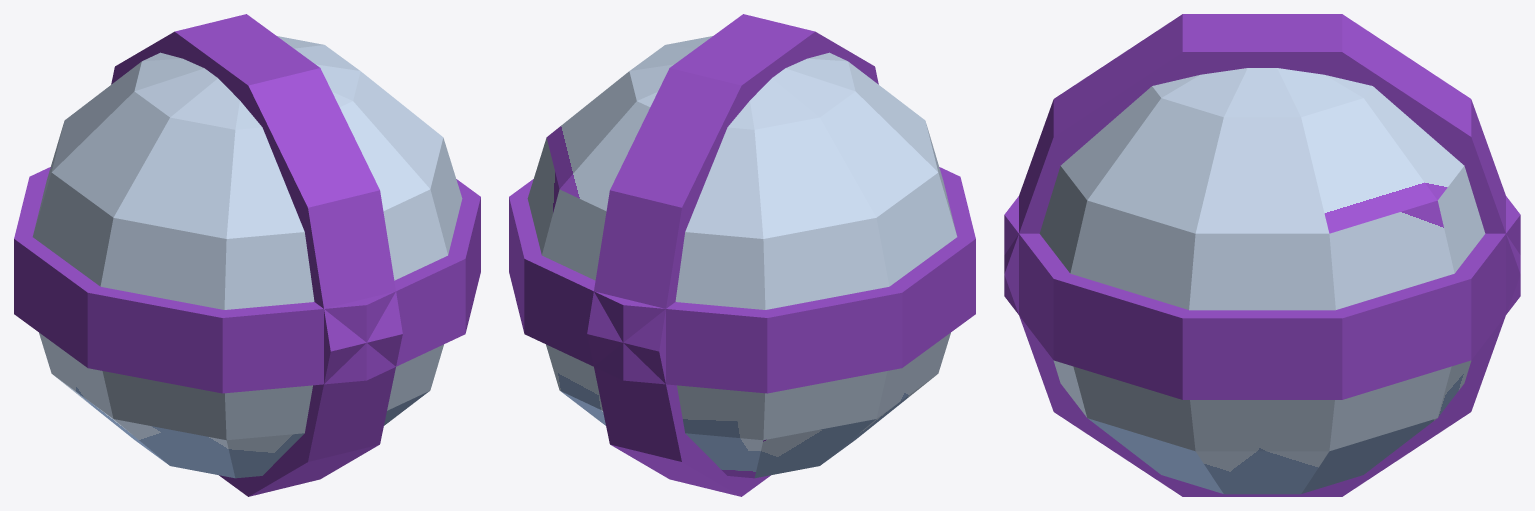
File: enemy_snowball.glb
3 views of the same model, side by side, from view 1: azimuth 30°, elevation 25°; view 2: azimuth 150°, elevation 25°; view 3: azimuth 270°, elevation 25° (orthographic). The views are drawn at different scales.
Visible parts, largest first — view 1: enemy_snowball; view 2: enemy_snowball; view 3: enemy_snowball.
Boxes of the visible parts, x1,y1,x2,y2 form: enemy_snowball: [14, 14, 480, 496]; enemy_snowball: [509, 14, 975, 496]; enemy_snowball: [1004, 14, 1520, 496].
Bounding box in the file's own units: 0.4907 × 0.4907 × 0.516.
Materials: 1 (1 with a texture image).
